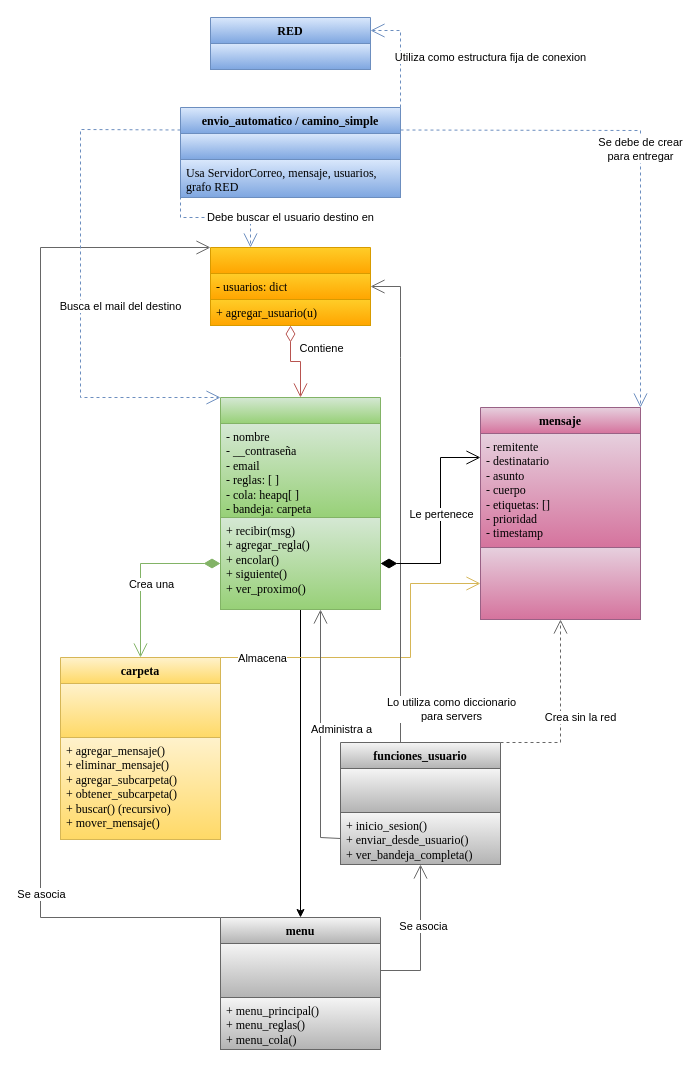
Some shapes in this 700 by 1070 pixel diagram are drawn without their labels. Here are the shapes that lost their labels. From the top down, the box of each, then its label:
(210, 42, 370, 70): Grafo
(180, 132, 400, 160): (módulo, funciones)
(210, 246, 370, 326): ServidorCorreo
(220, 396, 380, 610): usuarios
(480, 546, 640, 620): + agregar_etiqueta() + quitar_etiqueta() + set_prioridad() + resumen()
(60, 682, 220, 738): - nombre - mensajes: [ ] - subcarpetas: [ ]
(340, 768, 500, 812): - usuarios: [ ] - servidores: dict
(220, 942, 380, 998): - usuario_actual - fu: funciones_usuario - servidores
